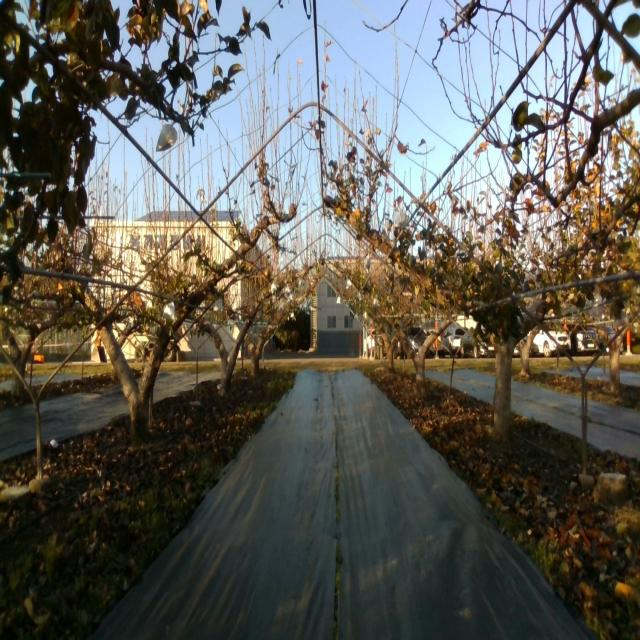pearbags: (156, 123, 177, 152), (162, 301, 176, 325), (395, 210, 407, 232)
